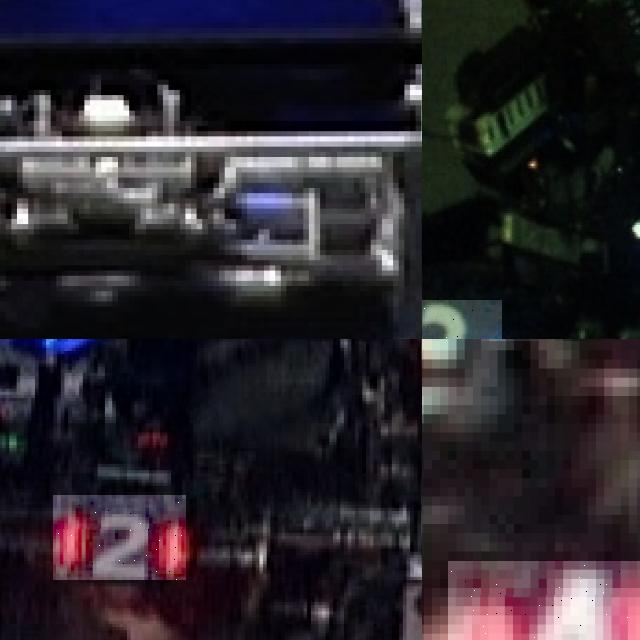B3: (422, 300, 502, 339)
R2: (53, 495, 186, 580)
R4: (448, 560, 640, 640)
